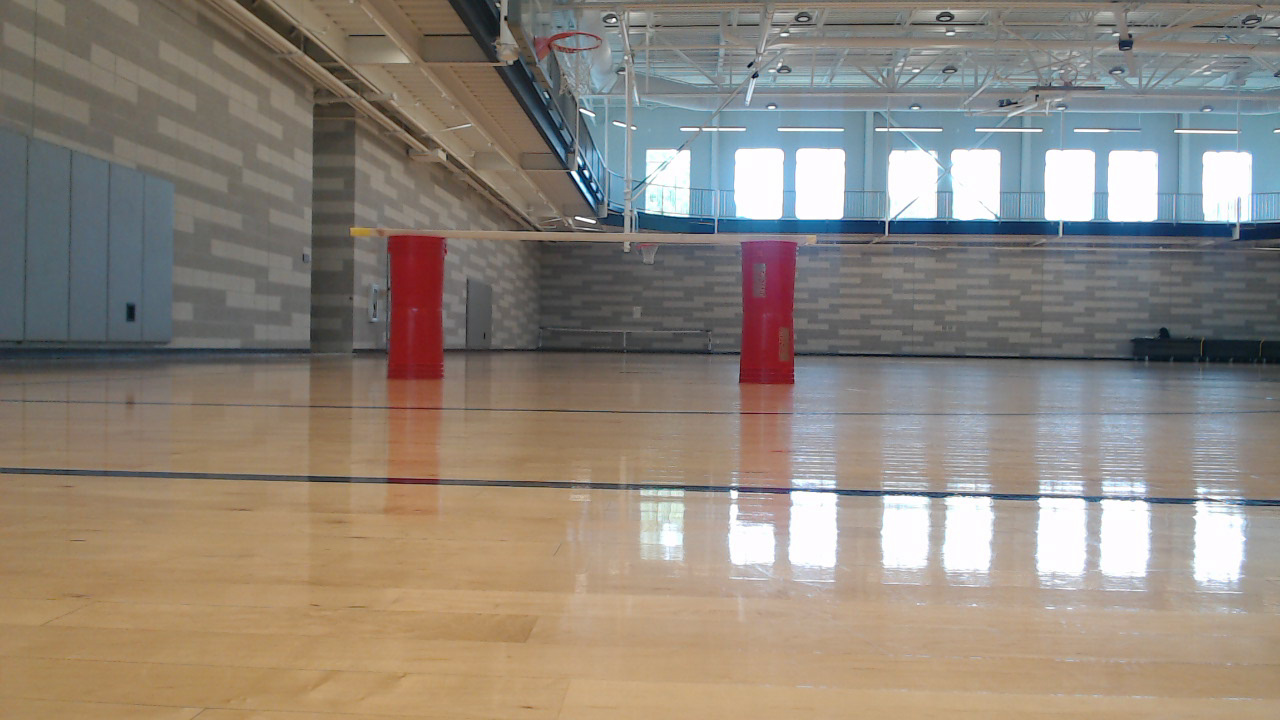red_bucket_arch: (382, 228, 806, 396)
